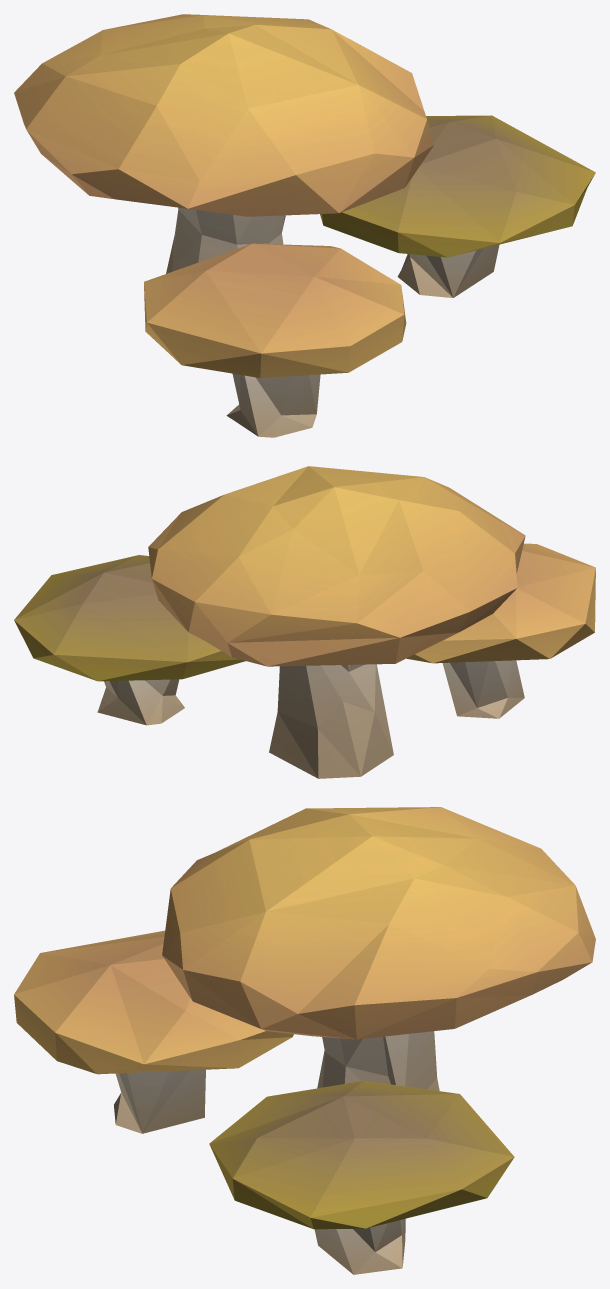
The picture shows the model from 3 angles, top to bottom: view 1: azimuth 30°, elevation 25°; view 2: azimuth 150°, elevation 25°; view 3: azimuth 270°, elevation 25°; orthographic projection. The views are drawn at different scales.
Visible parts, largest first — view 1: MushroomsYellow; view 2: MushroomsYellow; view 3: MushroomsYellow.
Boxes of the visible parts, left/top/right/bottom form: MushroomsYellow: left=14, top=14, right=595, bottom=437; MushroomsYellow: left=14, top=466, right=595, bottom=778; MushroomsYellow: left=14, top=807, right=595, bottom=1274.
Bounding box in the file's own units: 73.19 × 40 × 68.34.
Materials: 1 (1 with a texture image).
